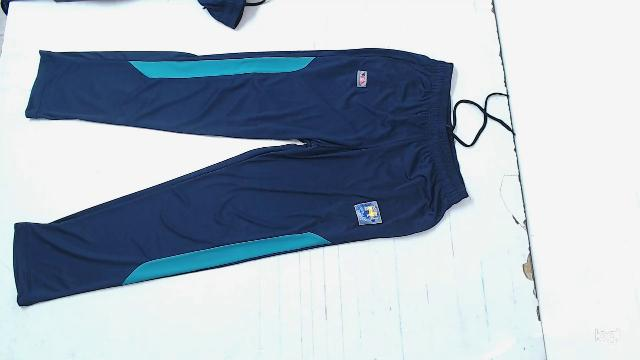new-garment: (14, 49, 468, 305)
